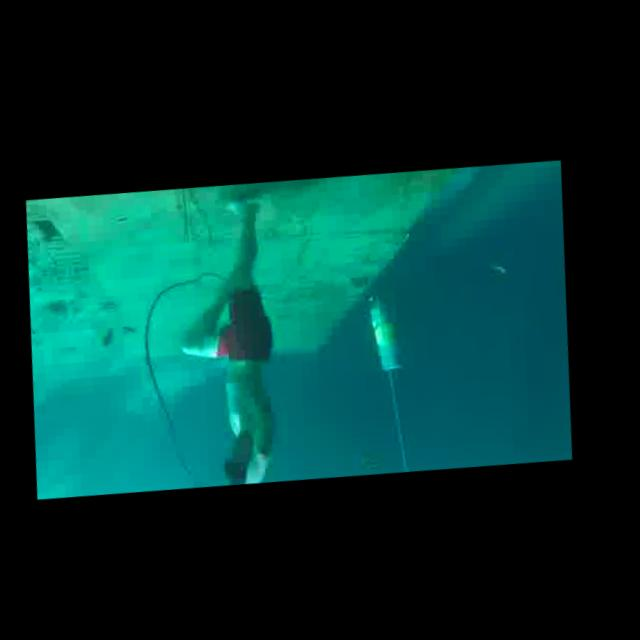human: (152, 185, 312, 490)
